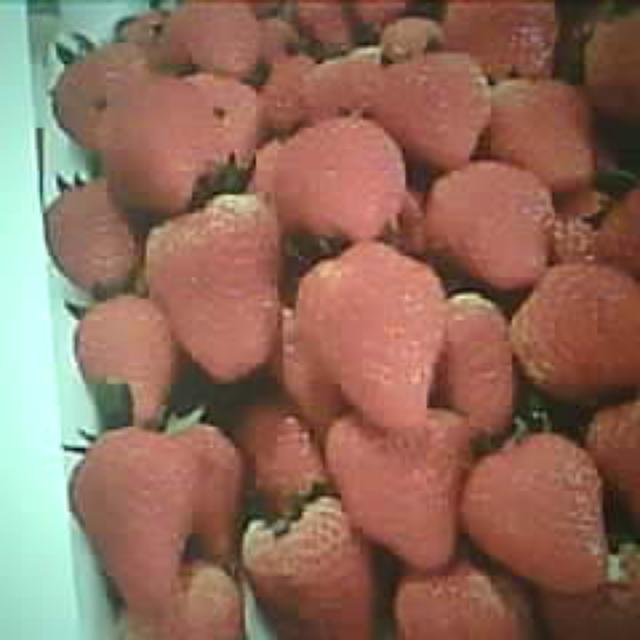ripe: (297, 244, 445, 428), (147, 196, 279, 378), (462, 432, 608, 593), (73, 426, 195, 612)
